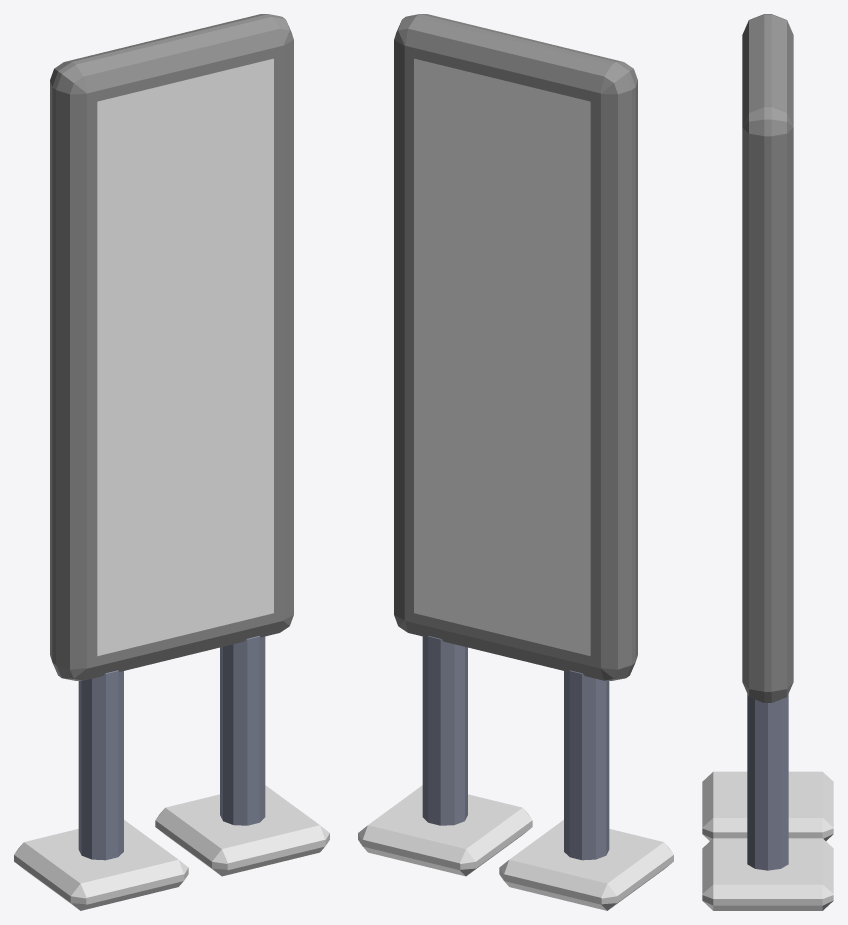
File: billboard_tall.obj
The picture shows the model from 3 angles, left to right: view 1: azimuth 30°, elevation 25°; view 2: azimuth 150°, elevation 25°; view 3: azimuth 270°, elevation 25°; orthographic projection. The views are drawn at different scales.
Parts seen in each view (by area): view 1: panel, object 2; view 2: panel, object 2; view 3: object 2.
Boxes of the visible parts, <box> form: panel: <box>97,58,273,656</box>; object 2: <box>14,14,329,910</box>; panel: <box>414,58,590,656</box>; object 2: <box>358,14,673,910</box>; object 2: <box>702,14,833,910</box>.
Bounding box in the file's own units: 3.96 × 12 × 1.8.
